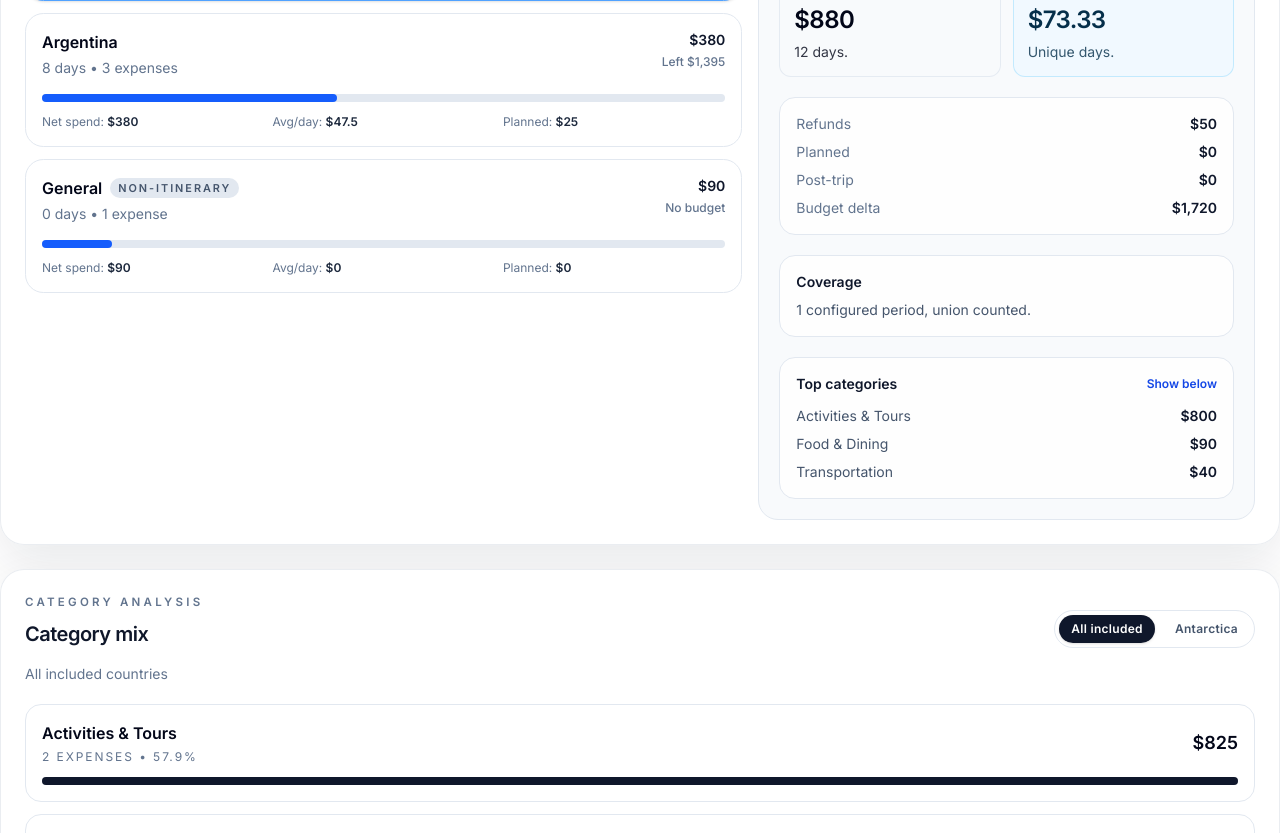
it: CostSummaryDashboard › drives category context from the selected country analysis row
The image size is (1280, 833).
(page scrolled)
What coordinates should you click on to do the following:
click the button "Show below"
I would click on:
 (1182, 384)
Its box is 1147,376 -> 1217,392.
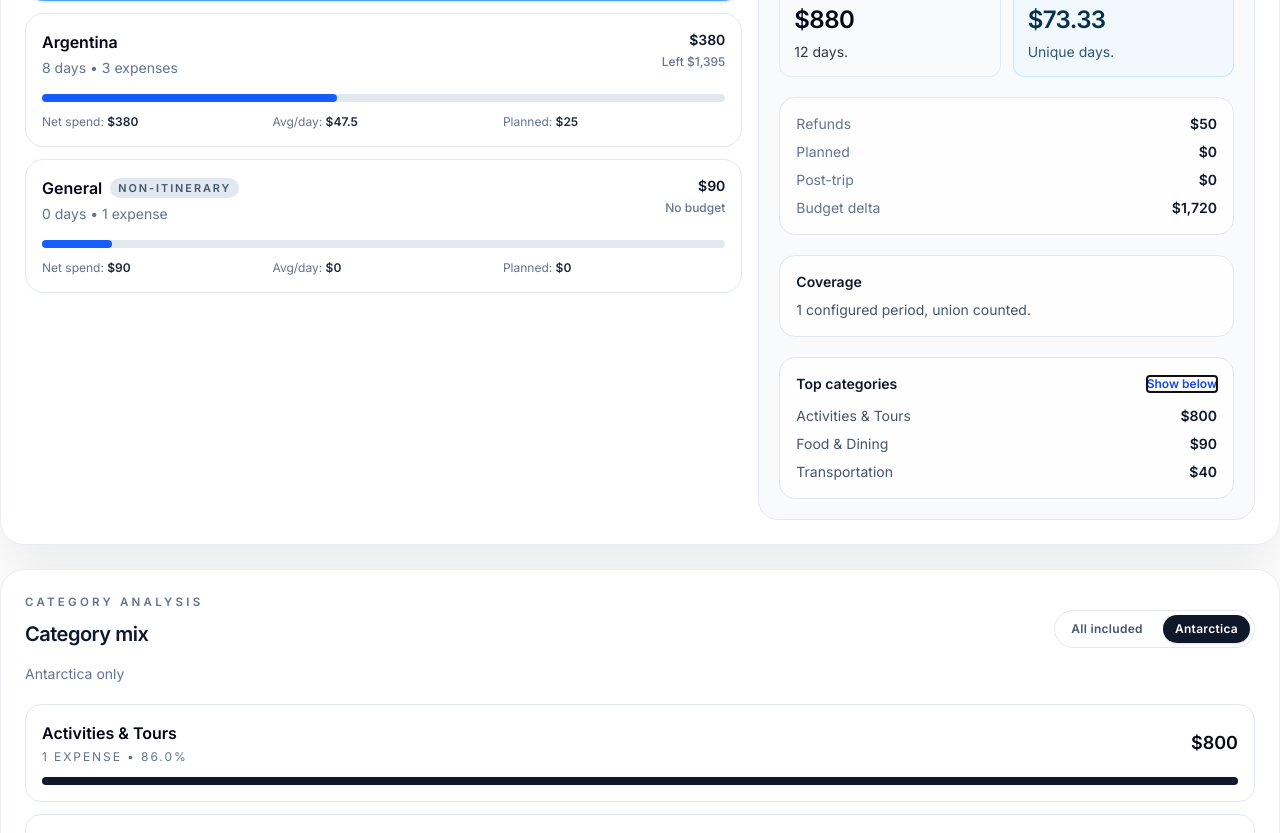
Check: the text "Transportation" is shown, box 796,462 -> 893,482
Check: the text "Antarctica only" is shown, box 25,665 -> 124,682
